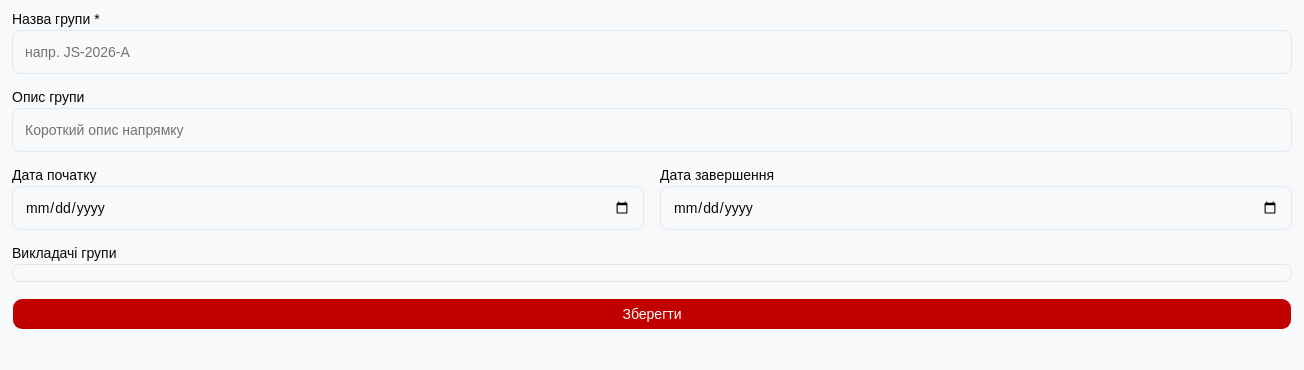
Scenario: GroupForm — дати › не дає завершити групу раніше, ніж вона почалась
Type "JS-2026-A" into the field labelled "Назва групи *" at (652, 52), box [12,30,1292,74]
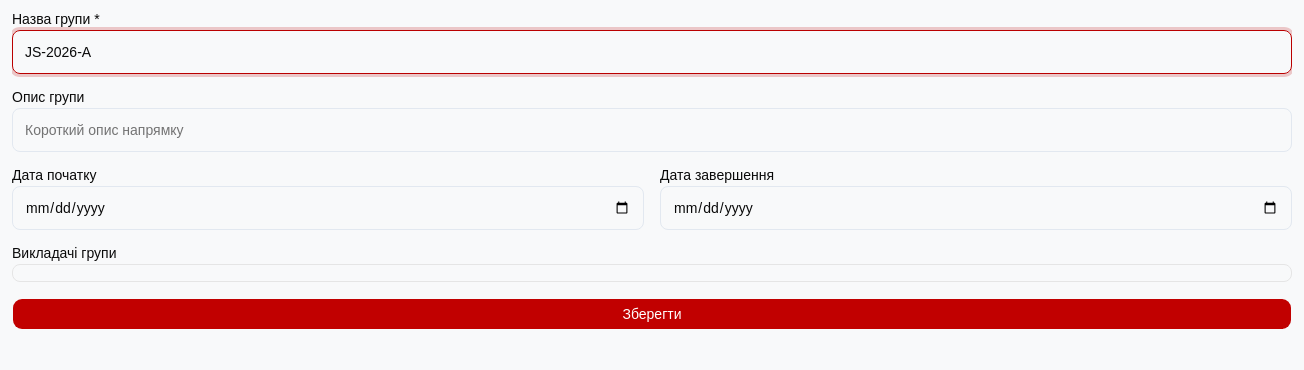
Type "2026-09-01" into the date field labelled "Дата початку" at (328, 208), box [12,186,644,230]
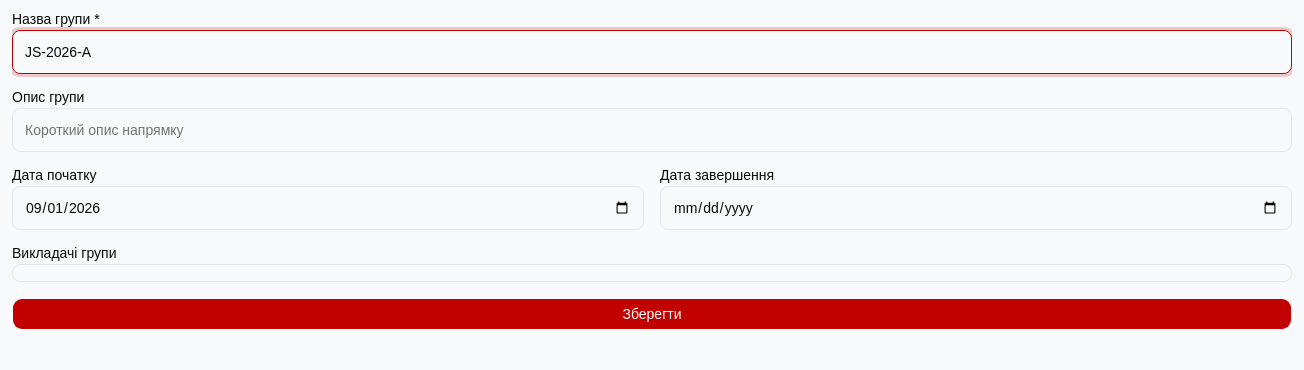
Type "2026-06-01" into the date field labelled "Дата завершення" at (976, 208), box [660,186,1292,230]
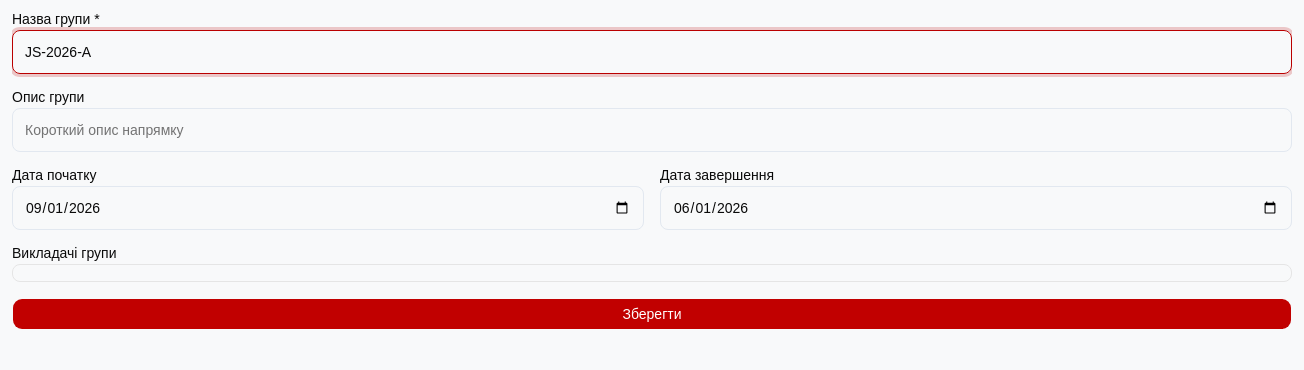
Click the button "Зберегти" at (652, 314), box [12,298,1292,330]
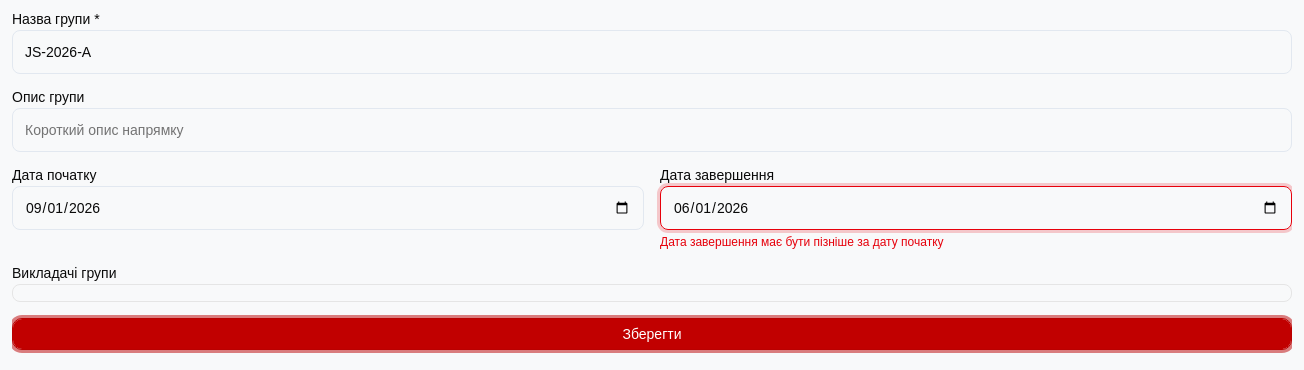
Expected: the text "Дата завершення має бути пізніше за дату початку" is shown, [660,235,944,249]
